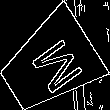M_SW: (18, 31, 81, 97)
